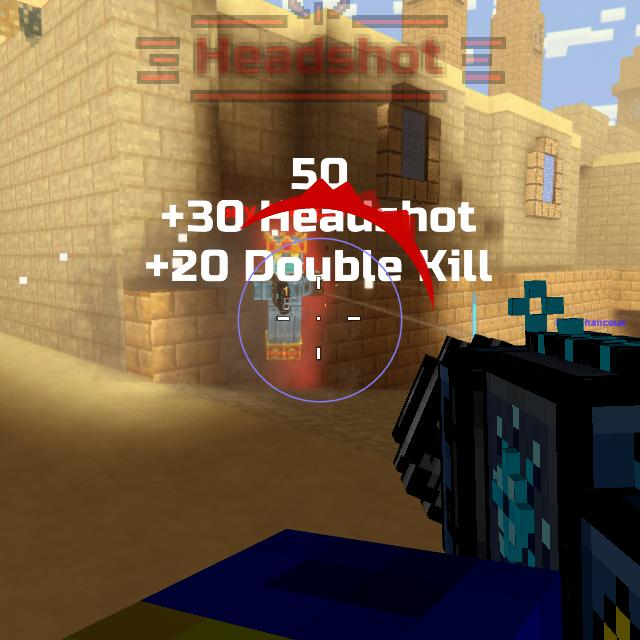Enemy: (248, 238, 323, 360)
